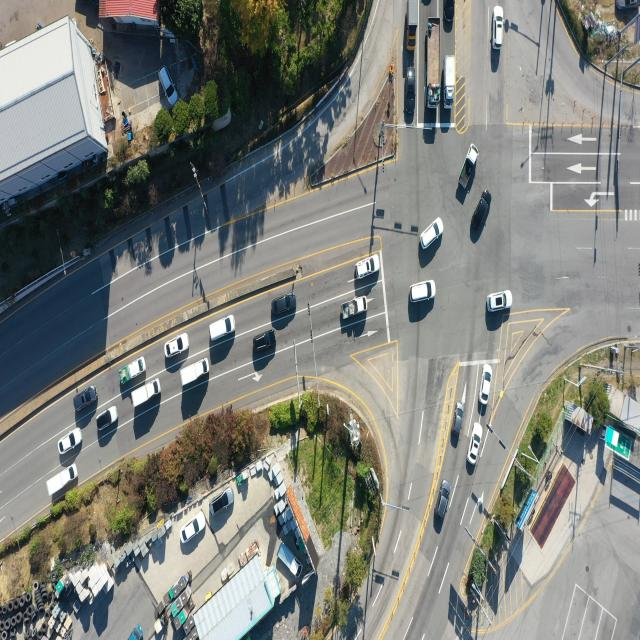car: (178, 510, 208, 550), (158, 64, 177, 107), (470, 194, 490, 232), (209, 318, 236, 346), (422, 218, 444, 250), (435, 480, 451, 522), (467, 423, 482, 465), (410, 280, 436, 304), (356, 256, 380, 282), (272, 294, 298, 317), (212, 490, 235, 516), (59, 428, 81, 454), (450, 403, 463, 447), (74, 387, 97, 411), (166, 335, 189, 359), (252, 331, 275, 354), (95, 407, 116, 432), (488, 292, 512, 313), (482, 363, 493, 405), (494, 7, 504, 50), (407, 81, 417, 122), (445, 0, 455, 32), (617, 0, 640, 10)
medium_truck: (425, 22, 440, 109)
small_truck: (46, 464, 80, 496), (276, 539, 301, 580), (132, 376, 162, 408), (182, 356, 211, 389), (460, 144, 477, 190), (339, 296, 367, 322), (119, 356, 145, 384), (405, 0, 417, 51), (444, 56, 456, 106), (129, 623, 143, 640)
